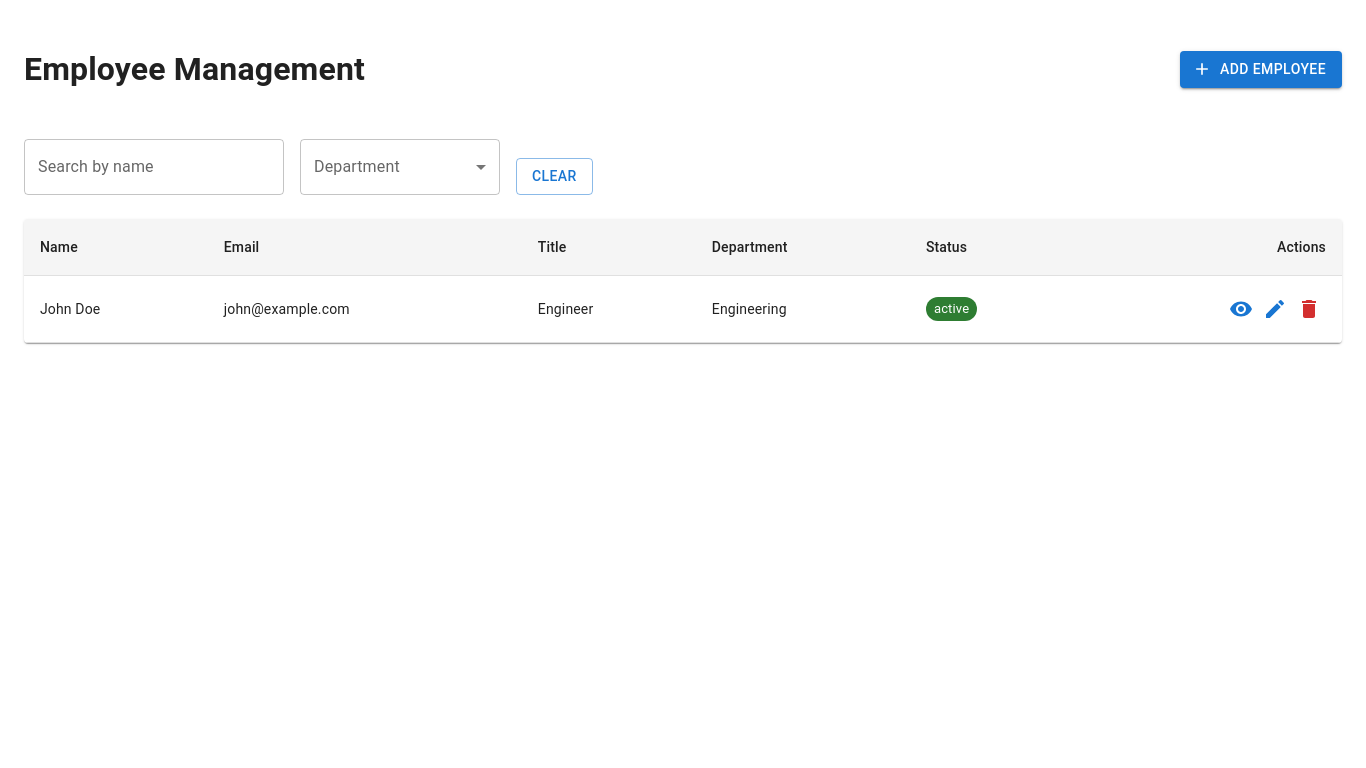
Test case: EmployeeListPage › opens the add employee dialog when clicking Add Employee
The width and height of the screenshot is (1366, 768).
Click the button "Add Employee" at point(1261, 69), box [1180,51,1342,88]
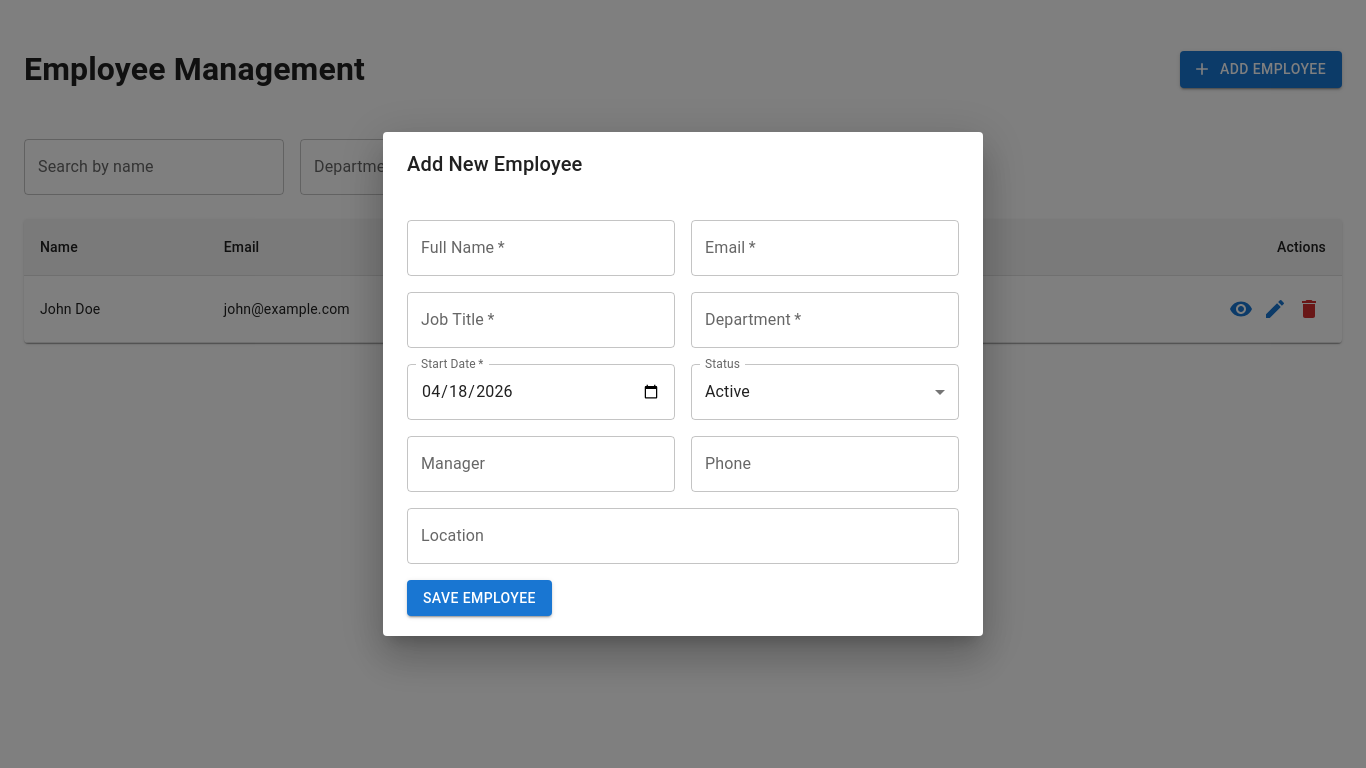
Expected: the dialog is shown, [383,132,983,636]
Expected: the field labelled "Full Name *" is shown, [407,220,675,276]
